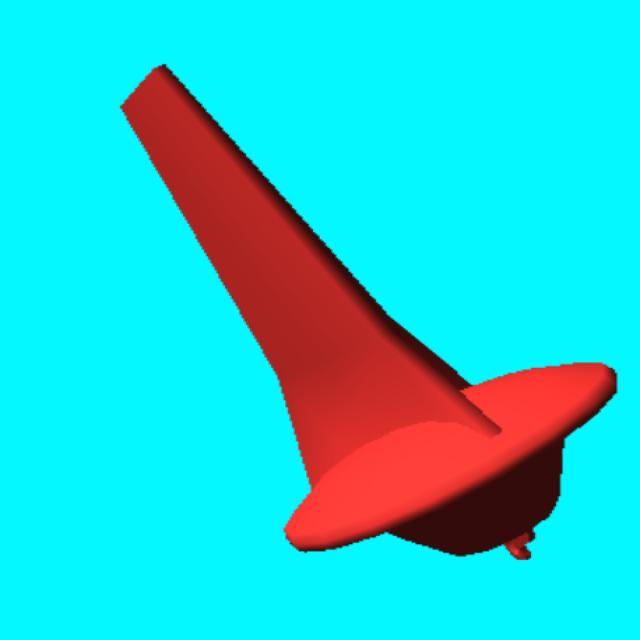RedBuoy: (122, 66, 614, 558)
